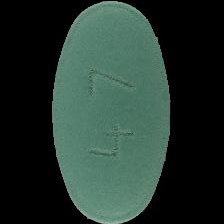69189-0203: (0, 0, 224, 224)
